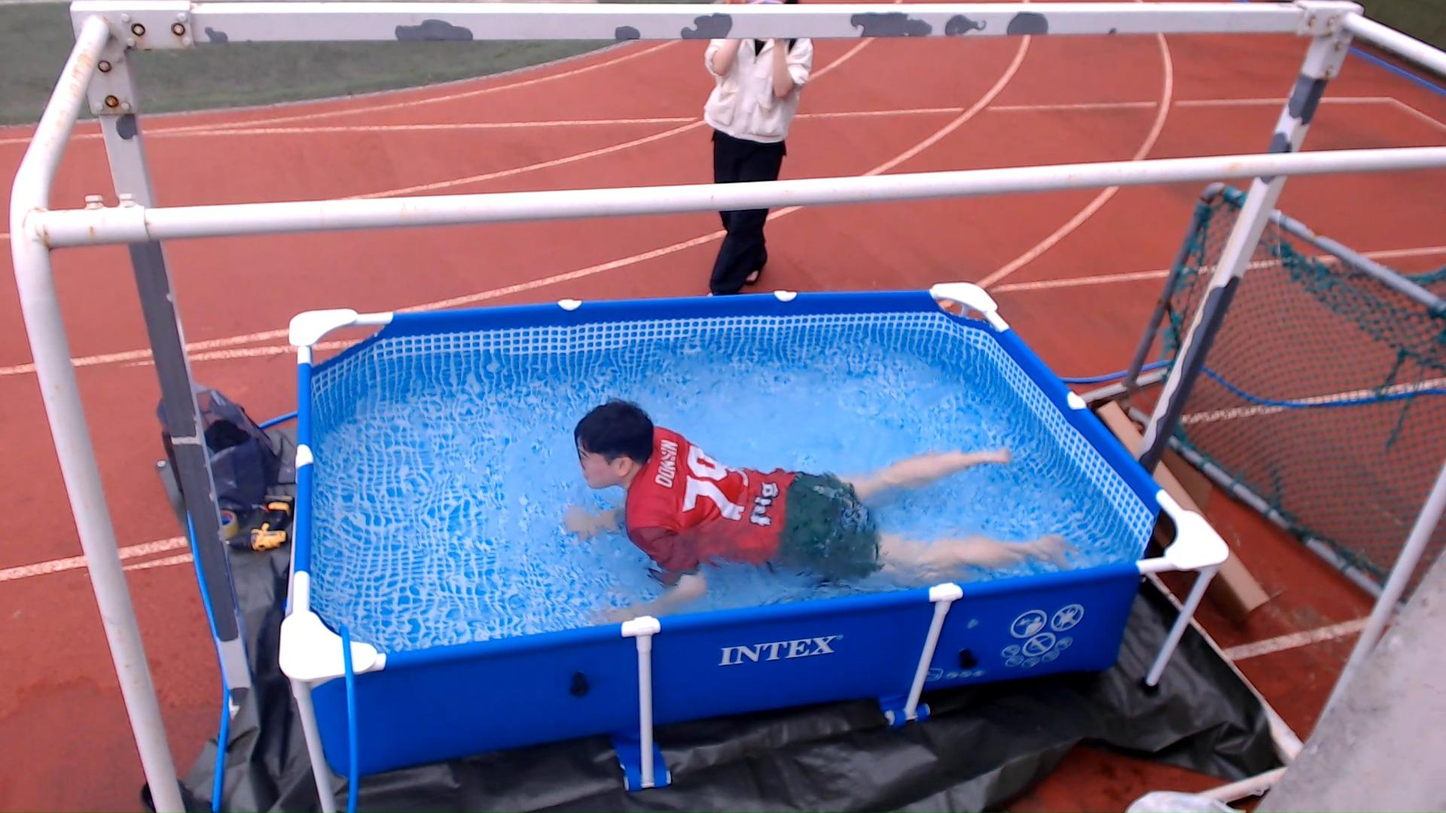Person-out-of-water: (664, 0, 827, 316)
Swimming: (527, 395, 1084, 604)
